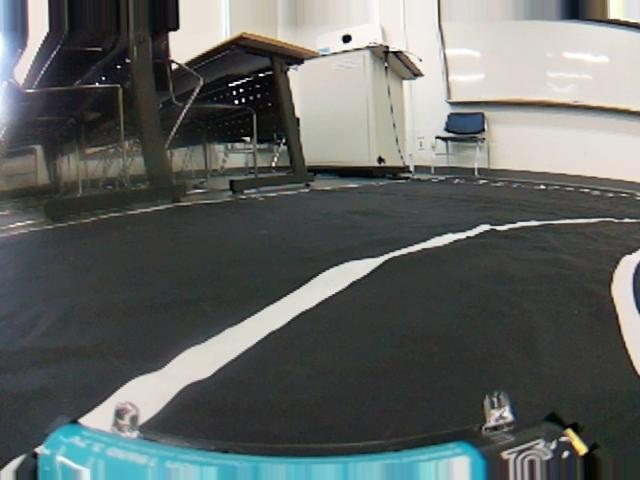right: (2, 213, 640, 477)
